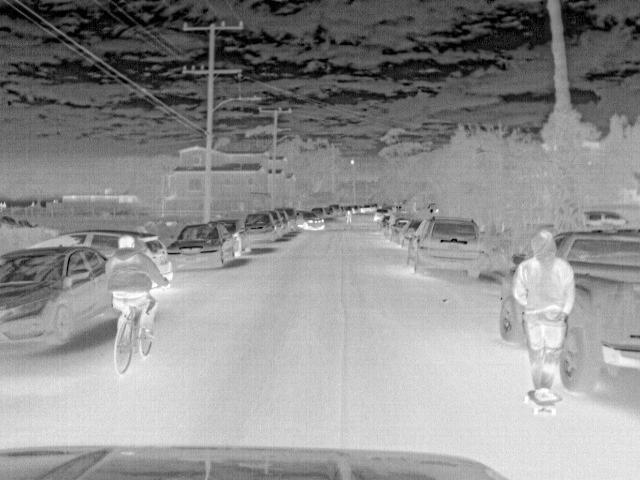car: (557, 226, 638, 394), (1, 246, 112, 356), (409, 216, 485, 280), (168, 223, 235, 268), (132, 231, 174, 283), (497, 288, 523, 350), (213, 218, 252, 258), (34, 230, 120, 246), (241, 214, 279, 246), (579, 209, 629, 232), (396, 220, 425, 252), (296, 209, 327, 230), (264, 209, 284, 239), (386, 220, 409, 245), (276, 209, 292, 233), (372, 206, 390, 222)
person: (515, 227, 574, 406), (100, 234, 171, 350), (342, 209, 354, 228)
